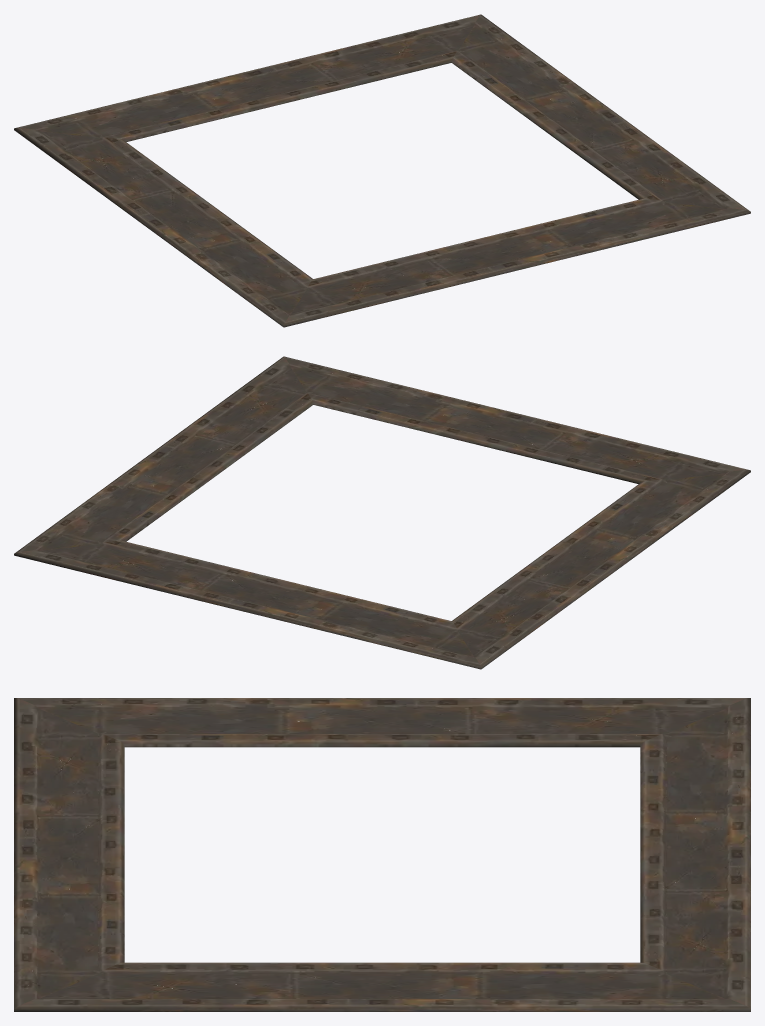
3 views of the same model, one above another, from view 1: azimuth 30°, elevation 25°; view 2: azimuth 150°, elevation 25°; view 3: azimuth 270°, elevation 25° (orthographic). The views are drawn at different scales.
Parts seen in each view (by area): view 1: SM_DR_FloorInlay_4m_Sqr_01_LOD0; view 2: SM_DR_FloorInlay_4m_Sqr_01_LOD0; view 3: SM_DR_FloorInlay_4m_Sqr_01_LOD0.
Boxes of the visible parts, x1=… form: SM_DR_FloorInlay_4m_Sqr_01_LOD0: x1=14, y1=14, x2=750, y2=327; SM_DR_FloorInlay_4m_Sqr_01_LOD0: x1=14, y1=356, x2=750, y2=669; SM_DR_FloorInlay_4m_Sqr_01_LOD0: x1=14, y1=698, x2=750, y2=1011.
Bounding box in the file's own units: 4 × 0.0244 × 4.
Materials: 1 (1 with a texture image).
